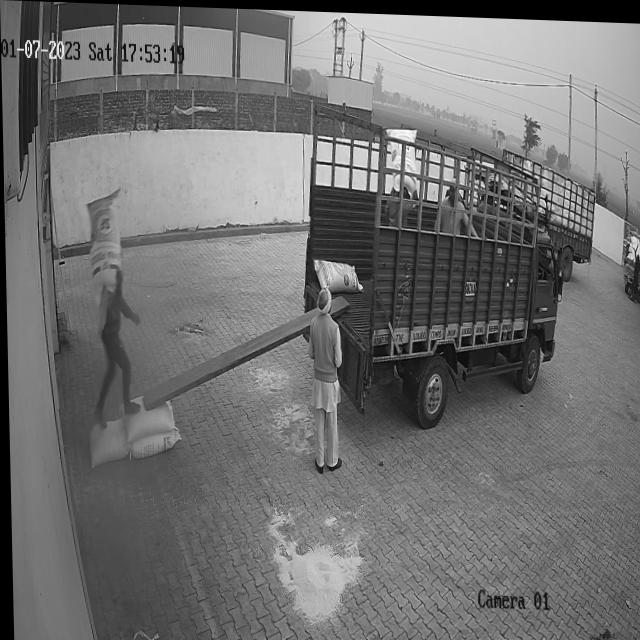sack: (86, 185, 122, 301), (120, 391, 173, 441), (311, 254, 362, 294), (88, 416, 125, 465), (127, 426, 180, 459)
